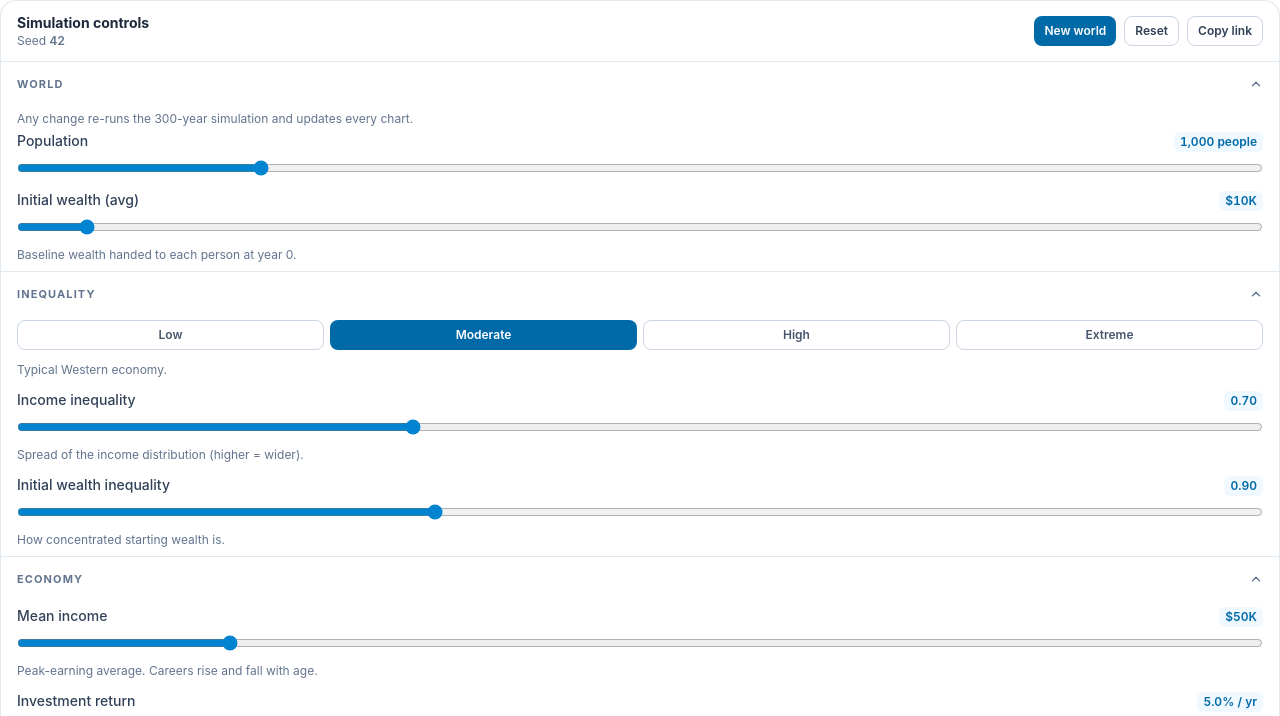
it: copy link reports a failed copy
Click the button "Copy link": (1225, 31) [1187,16,1263,46]
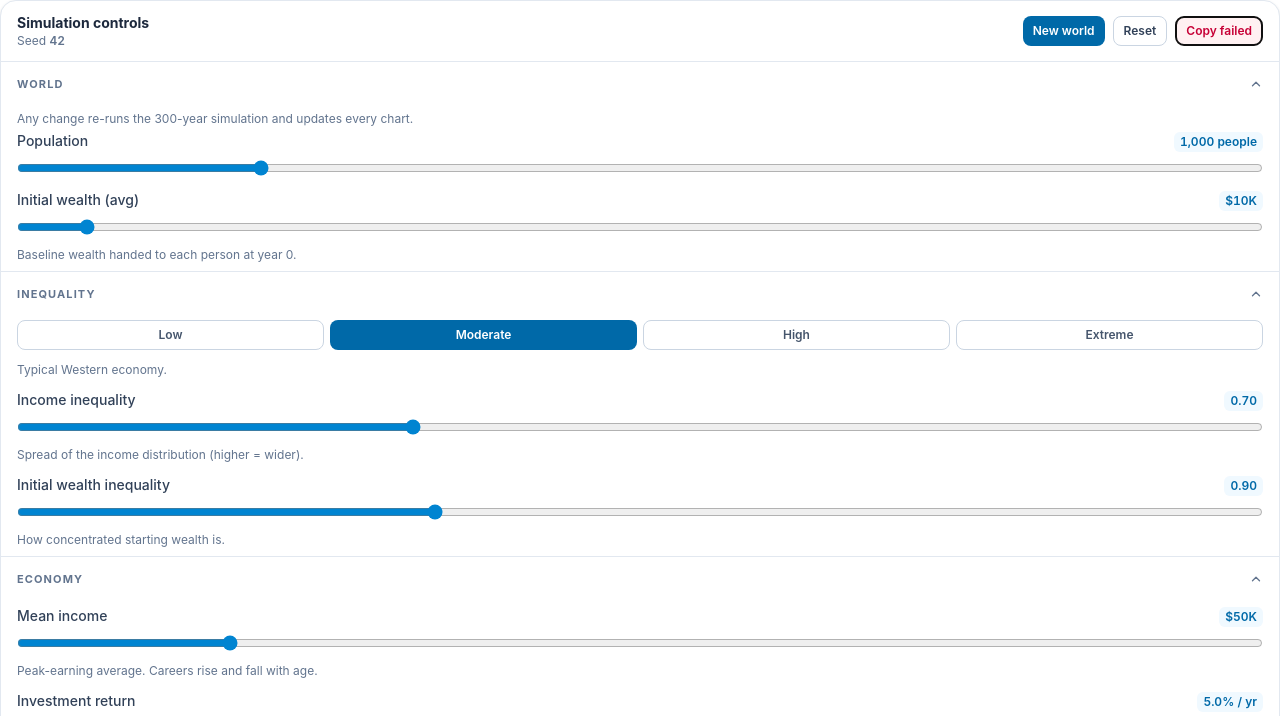
Now the button "Copy failed" is shown, box [1175,16,1263,46]
